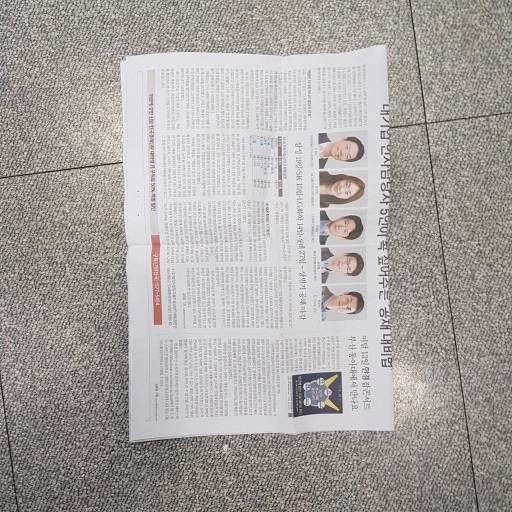Paper_2: (116, 42, 405, 438)
